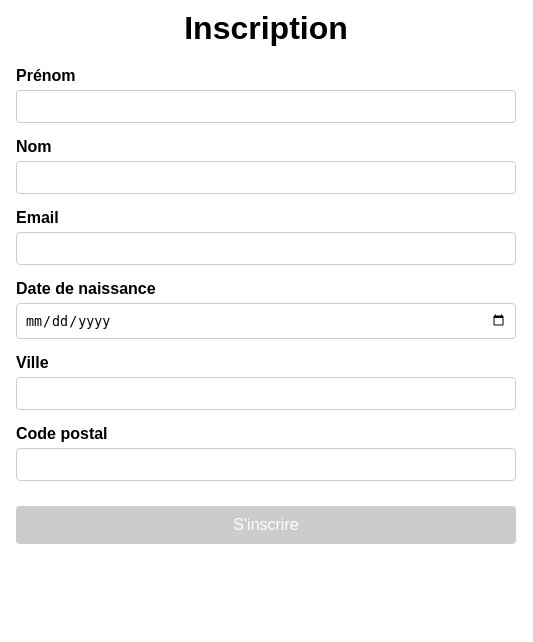
Test: inscription reussie: toaster + champs vides
The width and height of the screenshot is (533, 642).
In the field labelled "Prénom": (266, 107) left=16, top=90, right=516, bottom=123, type "Kany"
In the field labelled "Nom": (266, 178) left=16, top=161, right=516, bottom=194, type "Chheng"
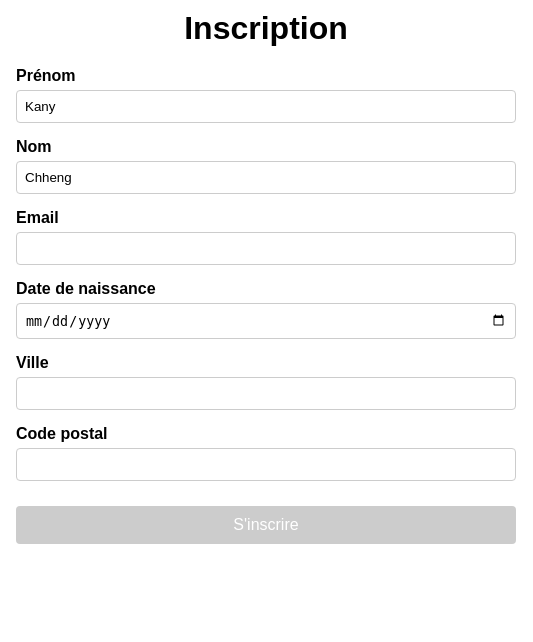
In the field labelled "Email": (266, 249) left=16, top=232, right=516, bottom=265, type "kany@test.com"
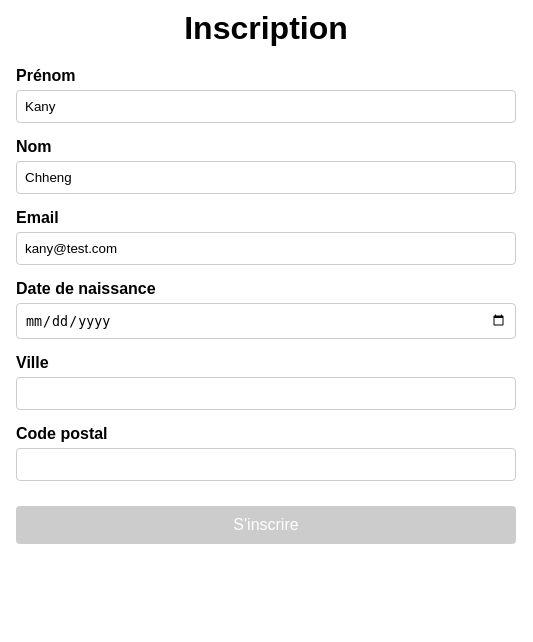
In the date field labelled "Date de naissance": (266, 321) left=16, top=303, right=516, bottom=339, type "1998-03-22"
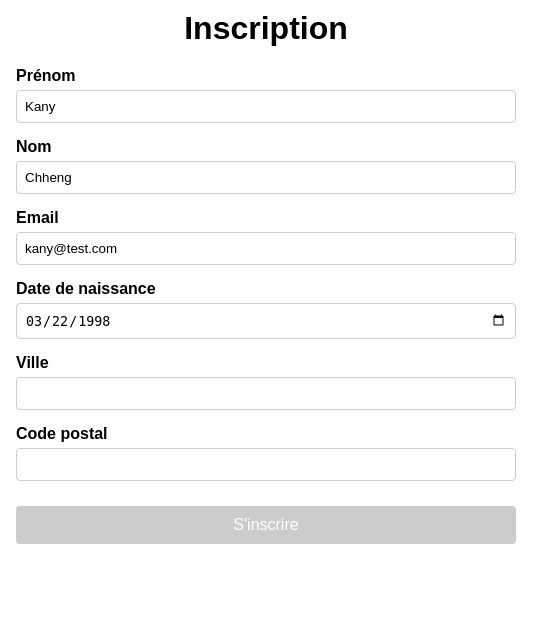
In the field labelled "Ville": (266, 393) left=16, top=377, right=516, bottom=410, type "Paris"
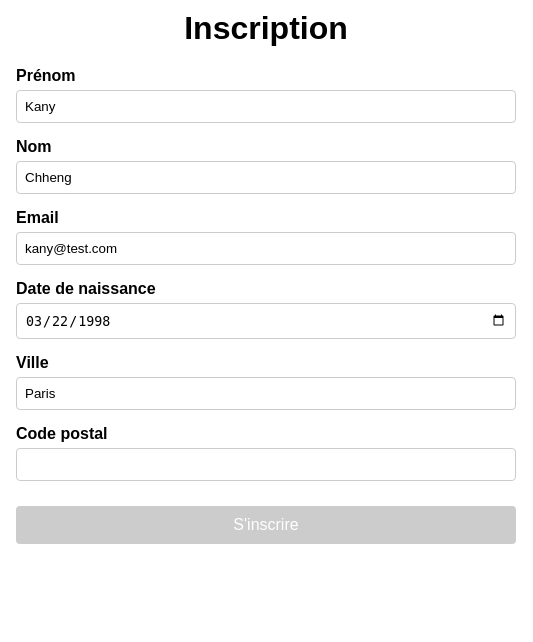
In the field labelled "Code postal": (266, 464) left=16, top=448, right=516, bottom=481, type "75015"
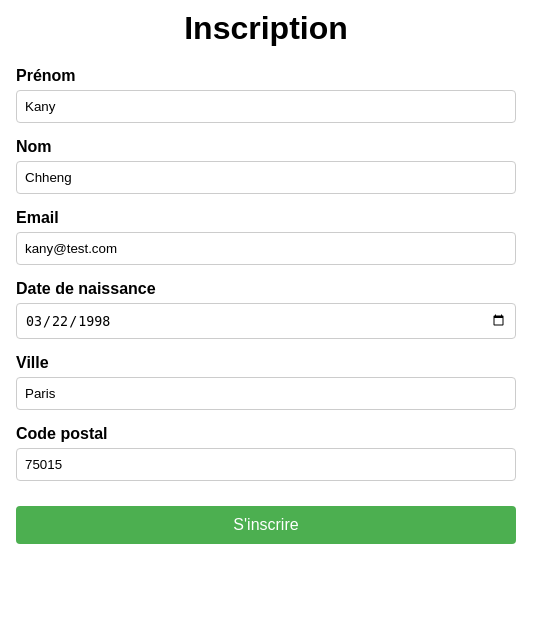
Click the button "S'inscrire": (266, 525) left=16, top=506, right=516, bottom=544
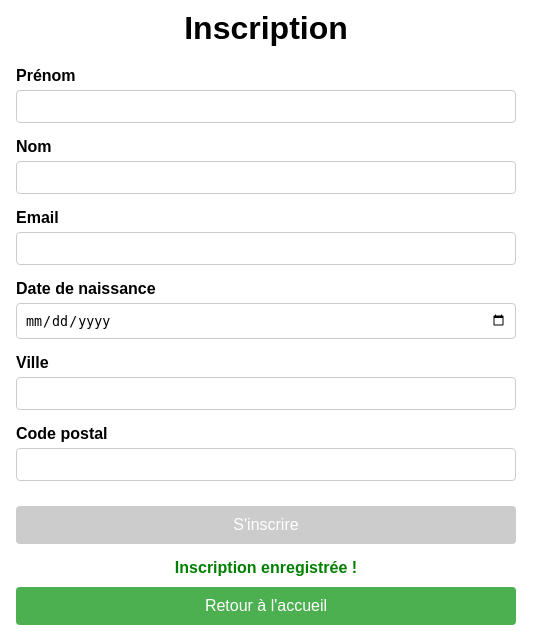
Check: the message shows "Inscription enregistrée !", box left=175, top=559, right=357, bottom=576
Check: the field labelled "Prénom" is empty, box left=16, top=90, right=516, bottom=123
Check: the field labelled "Nom" is empty, box left=16, top=161, right=516, bottom=194
